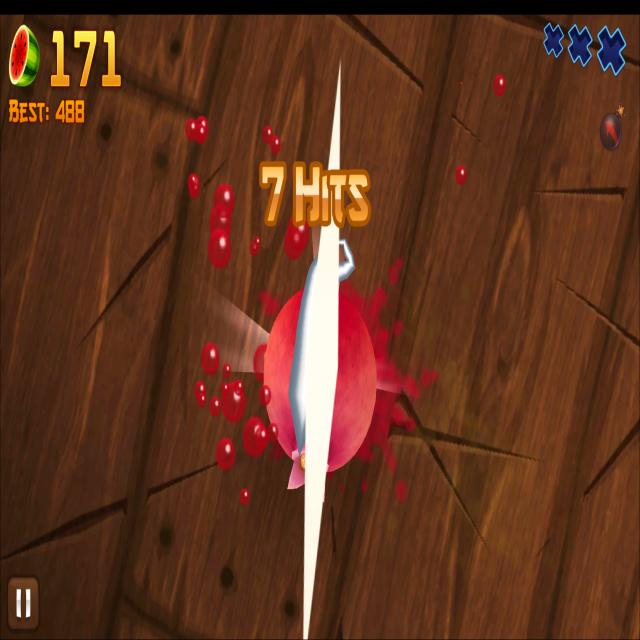fruit: (264, 287, 378, 471)
